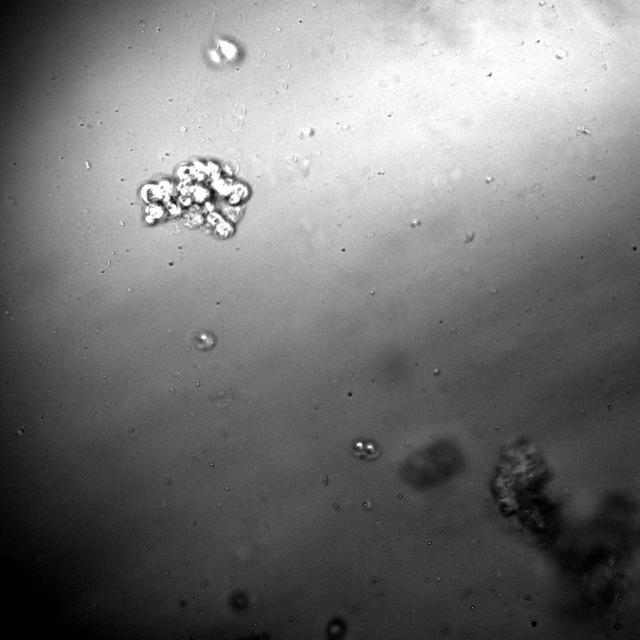organoid: (490, 438, 639, 639), (139, 159, 249, 237), (398, 438, 465, 490), (351, 438, 381, 460)
